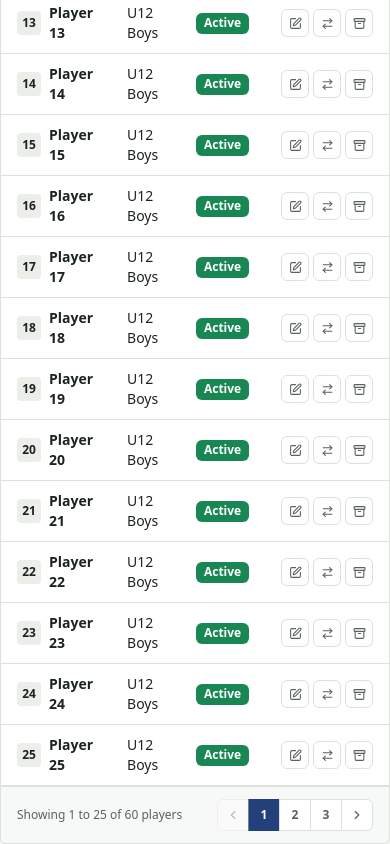
Test: ClubPlayersView › pages long rosters and reports the range
This screenshot has width=390, height=844.
(page scrolled)
Check: the text "Showing 1 to 25 of 60 players" is shown, box [17, 807, 182, 823]
Click the button named "Page 3" at [326, 815], box [310, 799, 342, 831]
(page scrolled)
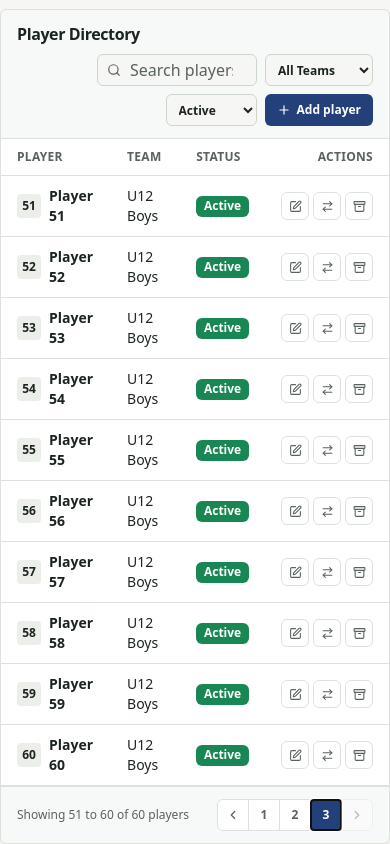
Check: the text "Showing 51 to 60 of 60 players" is shown, box [17, 807, 189, 823]
